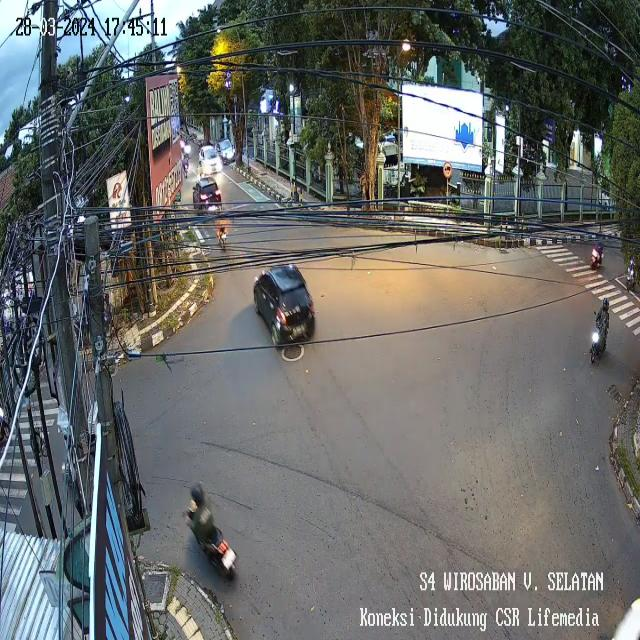car: (250, 253, 326, 361), (189, 176, 229, 222), (196, 140, 224, 177), (215, 131, 242, 169)
motorcycle: (180, 479, 245, 587), (589, 294, 615, 374), (587, 237, 606, 270), (216, 218, 230, 250), (183, 135, 191, 164), (182, 155, 190, 178)
